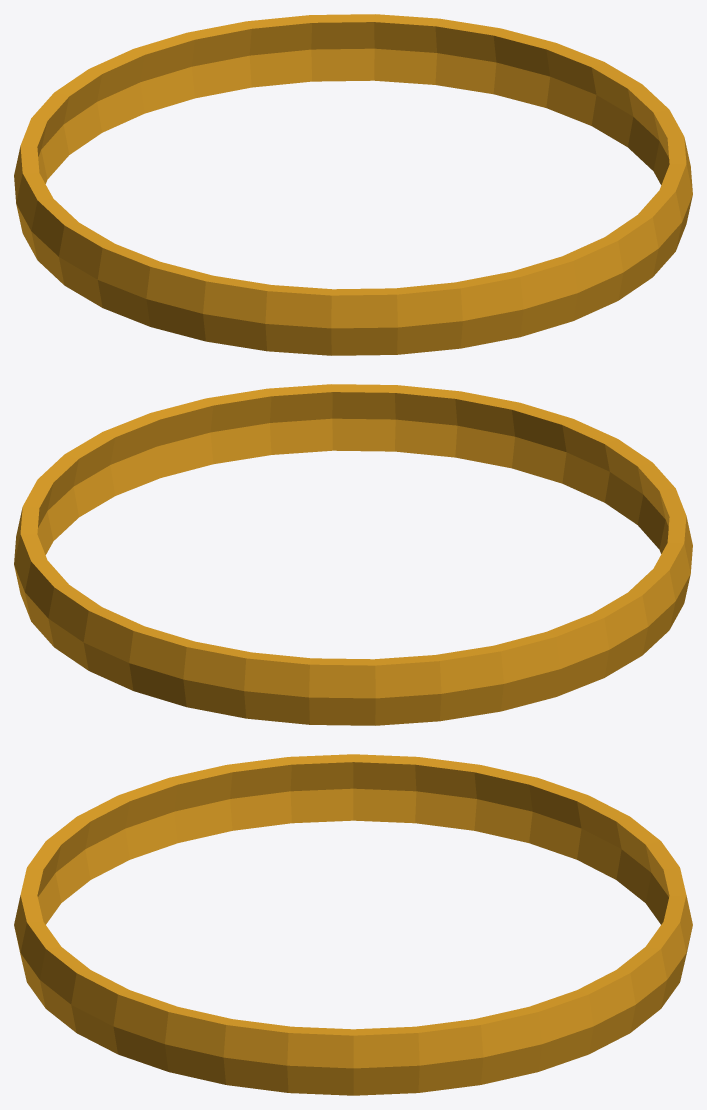
Rendered from God Ring 2.fbx.
3 renders of one model, top to bottom at view 1: azimuth 30°, elevation 25°; view 2: azimuth 150°, elevation 25°; view 3: azimuth 270°, elevation 25°, orthographic.
Parts seen in each view (by area): view 1: Sphere.001; view 2: Sphere.001; view 3: Sphere.001.
Part boxes in pixels (<box>): Sphere.001: <box>14,14,692,355</box>; Sphere.001: <box>14,384,692,725</box>; Sphere.001: <box>14,754,692,1095</box>.
Size of the model in its own units: 1410 by 138 by 1410.
